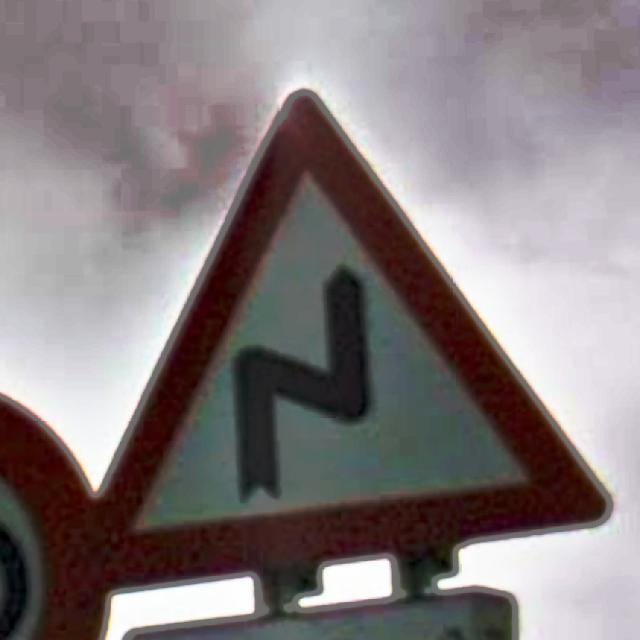doublebendright: (64, 91, 610, 593)
